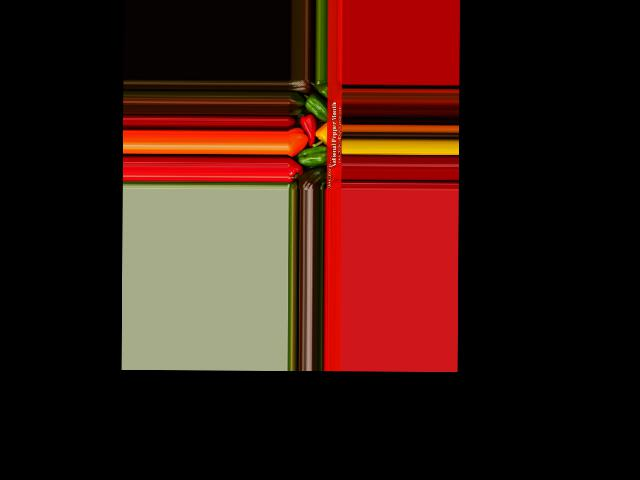bell_pepper: (298, 168, 327, 189)
